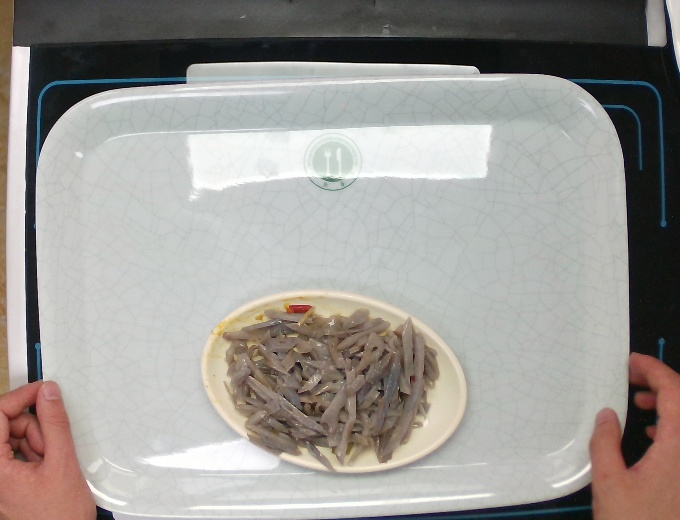JYsf-Tuo_Yuan_Wan: (202, 291, 469, 472)
